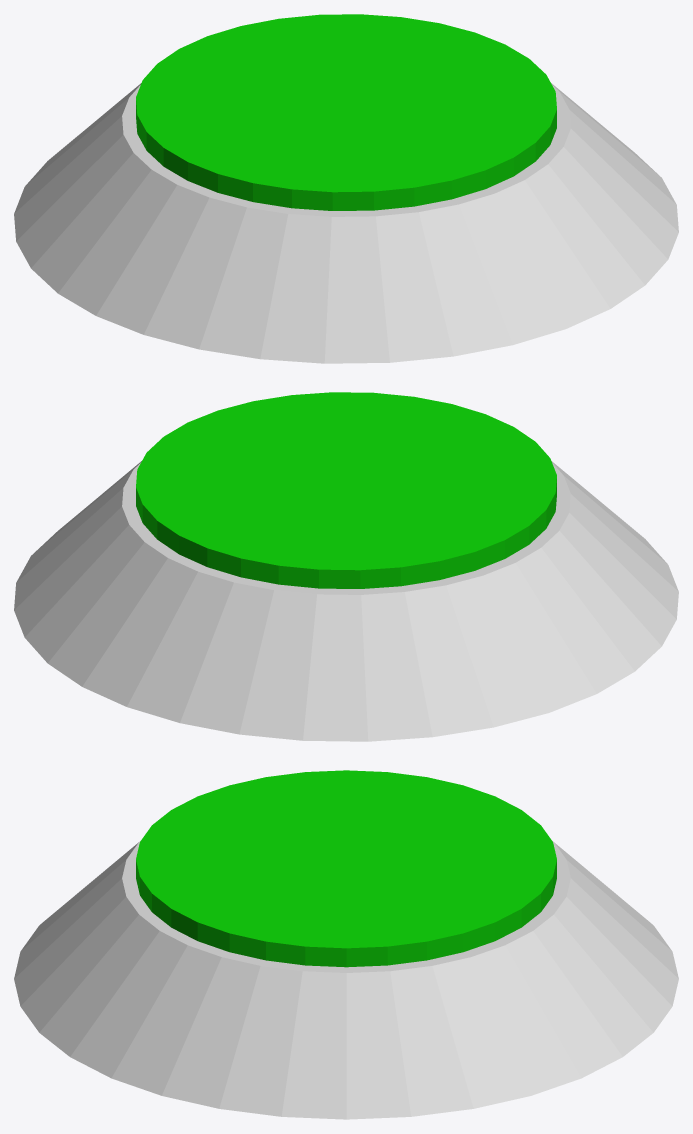
The model's file is buttonGreen.glb.
The picture shows the model from 3 angles, top to bottom: view 1: azimuth 30°, elevation 25°; view 2: azimuth 150°, elevation 25°; view 3: azimuth 270°, elevation 25°; orthographic projection.
Visible parts, largest first — view 1: Cylinder, Cylinder.001; view 2: Cylinder, Cylinder.001; view 3: Cylinder, Cylinder.001.
Part boxes in pixels (x1,y1,x2,y2): Cylinder: [14, 83, 678, 363]; Cylinder.001: [136, 14, 556, 210]; Cylinder: [14, 461, 678, 741]; Cylinder.001: [136, 392, 556, 588]; Cylinder: [14, 841, 678, 1119]; Cylinder.001: [136, 770, 556, 967].
Size of the model in its own units: 3 by 0.596 by 3.
